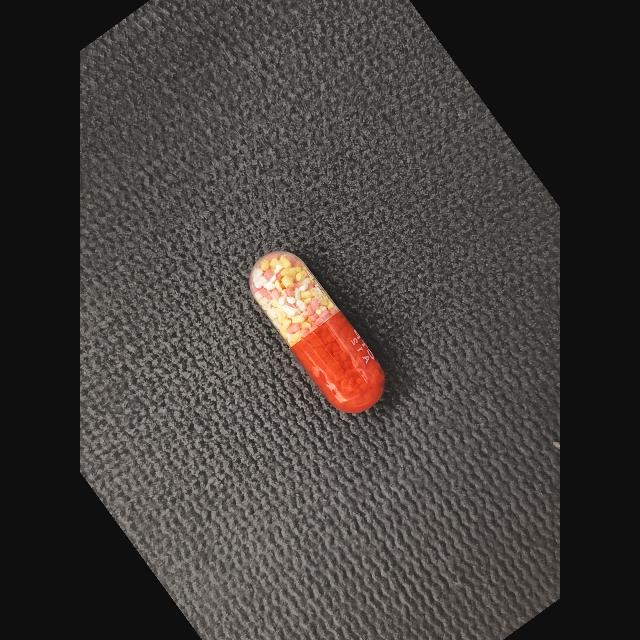Intact Capsule: (250, 251, 385, 413)
